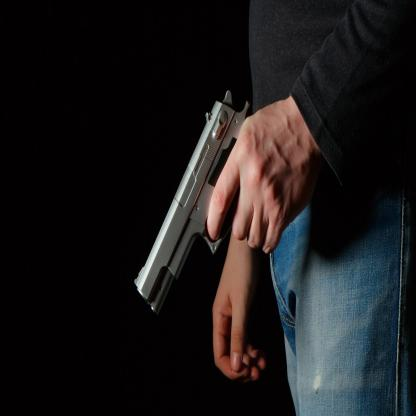gun: (132, 84, 274, 318)
